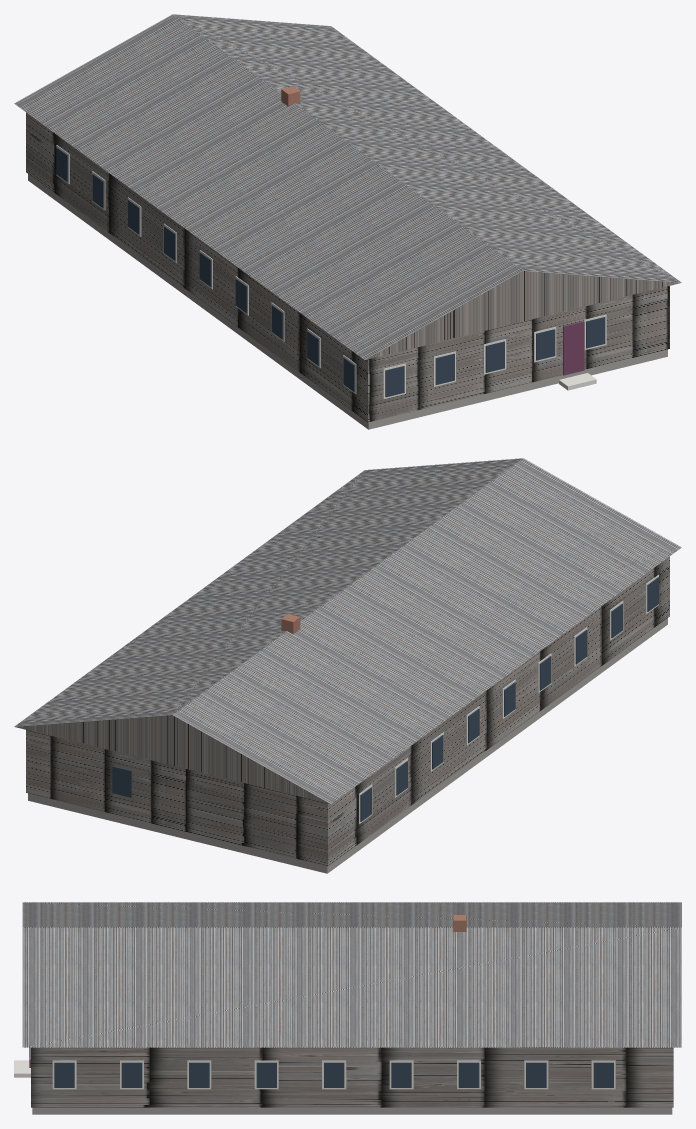
File: asset.glb
3 renders of one model, top to bottom at view 1: azimuth 30°, elevation 25°; view 2: azimuth 150°, elevation 25°; view 3: azimuth 270°, elevation 25°, orthographic. The views are drawn at different scales.
Parts seen in each view (by area): view 1: roof, body, gable_end, foundation, door; view 2: roof, body, gable_end, foundation; view 3: roof, body, foundation, win.015, win.020, win.014, win.016, win.019, win.021, win.017, win.018, win.022.
Boxes of the visible parts, left/top/right/bottom form: roof: left=14, top=14, right=681, bottom=359; body: left=26, top=112, right=669, bottom=422; gable_end: left=366, top=271, right=681, bottom=359; foundation: left=28, top=174, right=667, bottom=429; door: left=563, top=321, right=584, bottom=375; roof: left=14, top=458, right=681, bottom=803; body: left=26, top=556, right=669, bottom=866; gable_end: left=14, top=715, right=329, bottom=803; foundation: left=28, top=618, right=667, bottom=873; roof: left=22, top=902, right=681, bottom=1047; body: left=31, top=1047, right=673, bottom=1107; foundation: left=32, top=1107, right=672, bottom=1114; win.015: left=121, top=1062, right=142, bottom=1087; win.020: left=458, top=1062, right=479, bottom=1087; win.014: left=54, top=1062, right=74, bottom=1087; win.016: left=189, top=1062, right=209, bottom=1087; win.019: left=391, top=1062, right=411, bottom=1087; win.021: left=526, top=1062, right=546, bottom=1087; win.017: left=256, top=1062, right=276, bottom=1087; win.018: left=324, top=1062, right=344, bottom=1087; win.022: left=593, top=1062, right=613, bottom=1087.
Bounding box in the file's own units: 14.3 × 5.88 × 27.75.
7 materials, 2 textured.
